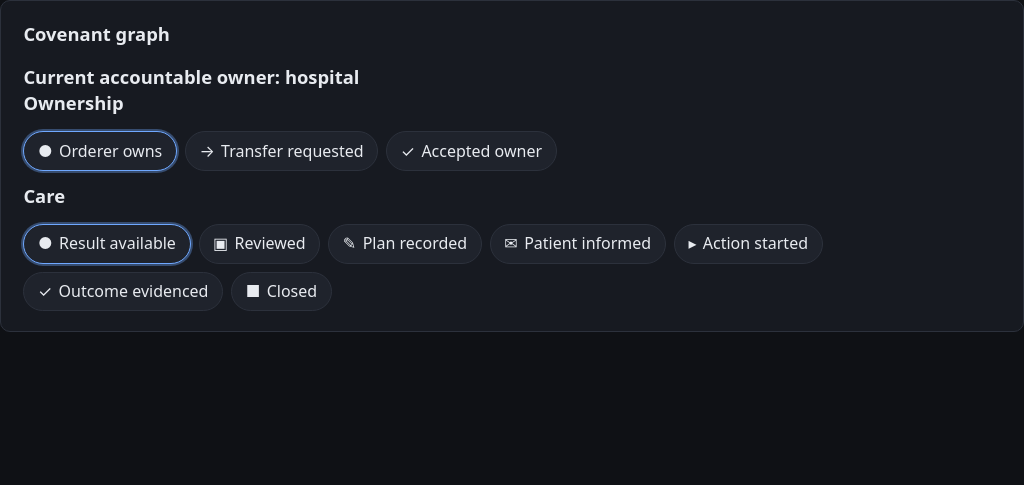
Test: CovenantGraph › shows source record id, version, actor and event when a node is selected
Click the button "● Orderer owns": (100, 151) 23,132 -> 177,171
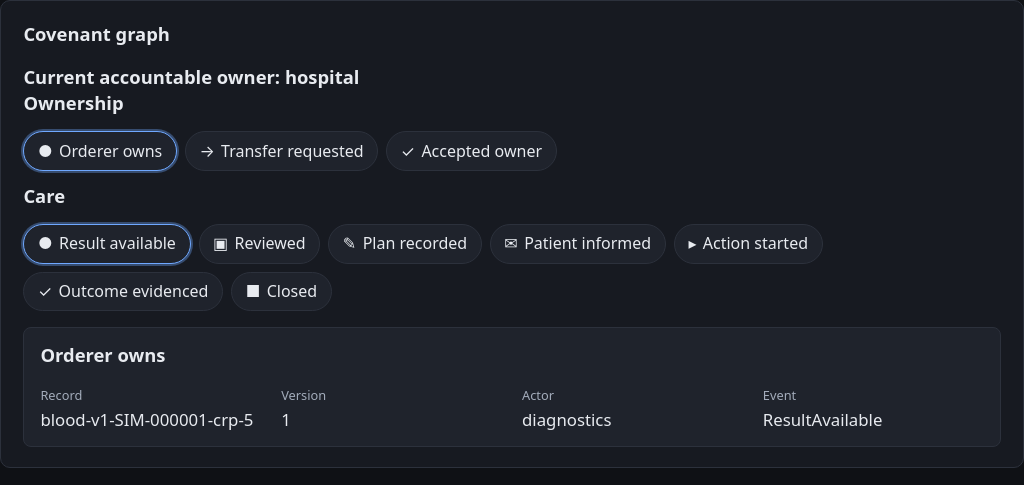
Expected: the text "blood-v1-SIM-000001-crp-5" is shown, 40,408 -> 261,432
Expected: the text "1" is shown, 281,408 -> 291,431
Expected: the text "diagnostics" is shown, 522,408 -> 611,431
